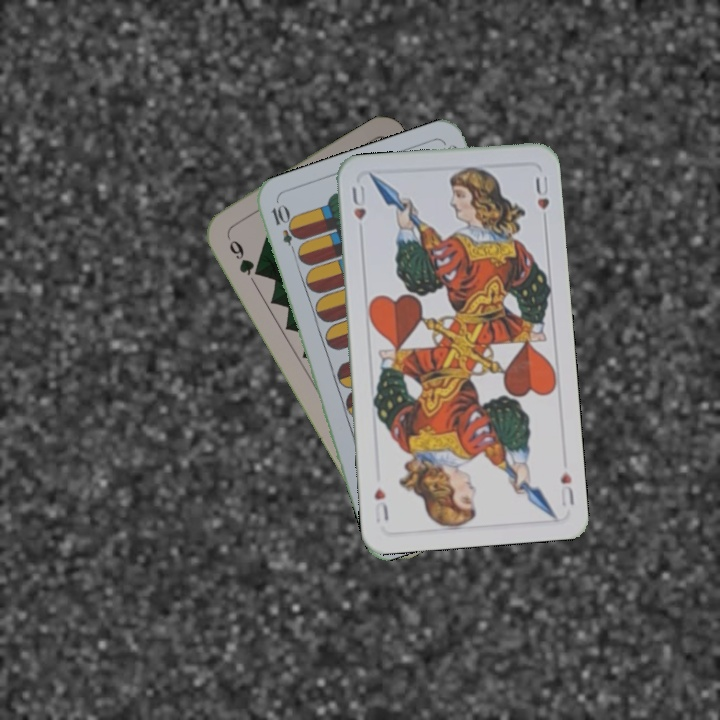E10: (267, 201, 301, 259)
G9: (225, 236, 264, 279)
HU: (348, 181, 369, 223), (556, 468, 577, 509)
